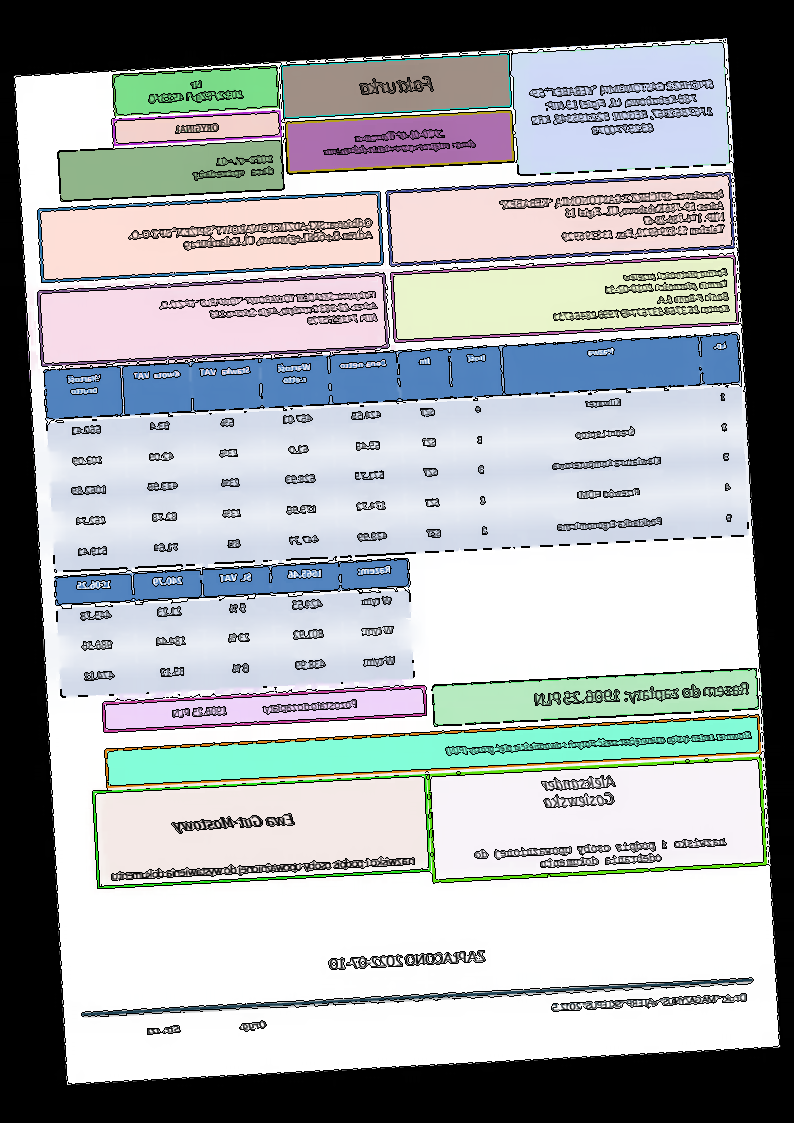Table: (43, 332, 751, 574), (54, 558, 416, 698)
TextBox: (496, 185, 728, 248), (526, 76, 721, 142), (158, 287, 381, 335), (549, 265, 733, 323), (128, 214, 378, 254), (474, 834, 729, 873), (110, 853, 418, 884), (444, 728, 753, 757), (533, 679, 751, 710), (321, 125, 477, 158), (550, 990, 751, 1014), (327, 946, 489, 974), (172, 696, 359, 720), (170, 810, 298, 837), (536, 772, 619, 811), (146, 75, 247, 106), (144, 1017, 270, 1038), (190, 152, 276, 182), (358, 74, 437, 99), (173, 121, 222, 135)
